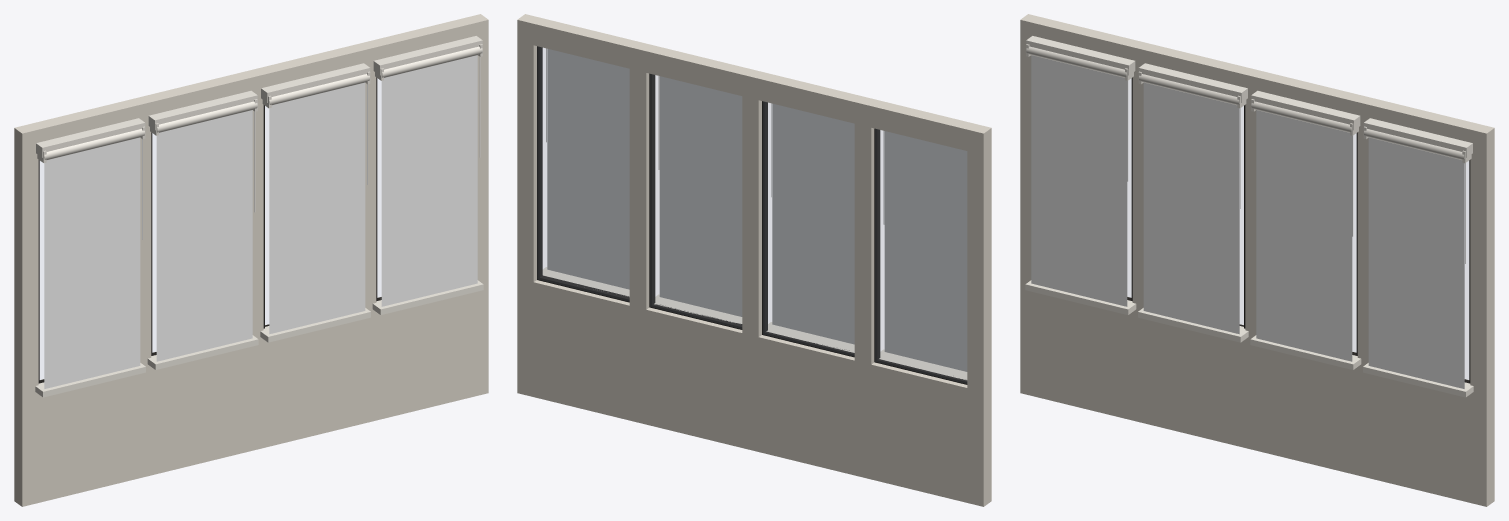
The model's file is curtain-roller-quad.glb.
3 views of the same model, side by side, from view 1: azimuth 30°, elevation 25°; view 2: azimuth 150°, elevation 25°; view 3: azimuth 330°, elevation 25° (orthographic).
Visible parts, largest first — view 1: QuadLowerWall, RollerFabric_P2, RollerFabric_P3, RollerFabric_P1, RollerFabric_P4, QuadHeaderWall, QuadLeftEdgeWall, QuadRightEdgeWall, QuadPillar2, QuadPillar1, QuadPillar3, CurtainRollerQuadBlind (+16 smaller); view 2: QuadLowerWall, WindowGlass_P1, WindowGlass_P3, WindowGlass_P2, WindowGlass_P4, RollerFabric_P1, RollerFabric_P3, RollerFabric_P2, RollerFabric_P4, QuadHeaderWall, CurtainRollerQuadBlind, QuadLeftEdgeWall (+8 smaller); view 3: QuadLowerWall, RollerFabric_P2, RollerFabric_P3, RollerFabric_P4, RollerFabric_P1, QuadHeaderWall, QuadRightEdgeWall, QuadLeftEdgeWall, QuadPillar2, QuadPillar3, QuadPillar1, CurtainRollerQuadBlind (+16 smaller).
Part boxes in pixels (box(x1,y1,x2,y2)): QuadLowerWall: box(14, 278, 488, 506); RollerFabric_P2: box(156, 110, 252, 361); RollerFabric_P3: box(269, 82, 365, 334); RollerFabric_P1: box(44, 137, 140, 388); RollerFabric_P4: box(381, 55, 477, 306); QuadHeaderWall: box(14, 14, 488, 154); QuadLeftEdgeWall: box(14, 149, 38, 391); QuadRightEdgeWall: box(477, 41, 488, 280); QuadPillar2: box(252, 97, 263, 335); QuadPillar1: box(140, 124, 151, 362); QuadPillar3: box(365, 69, 376, 307); CurtainRollerQuadBlind: box(37, 44, 482, 383); QuadLowerWall: box(517, 278, 991, 506); WindowGlass_P1: box(875, 129, 966, 383); WindowGlass_P3: box(650, 74, 741, 328); WindowGlass_P2: box(763, 102, 853, 355); WindowGlass_P4: box(538, 47, 628, 300); RollerFabric_P1: box(884, 131, 967, 371); RollerFabric_P3: box(659, 76, 742, 316); RollerFabric_P2: box(772, 103, 854, 344); RollerFabric_P4: box(547, 48, 629, 289); QuadHeaderWall: box(517, 14, 991, 154); CurtainRollerQuadBlind: box(537, 46, 967, 384); QuadLeftEdgeWall: box(967, 149, 991, 391); QuadLowerWall: box(1020, 278, 1494, 506); RollerFabric_P2: box(1143, 82, 1239, 334); RollerFabric_P3: box(1256, 110, 1352, 361); RollerFabric_P4: box(1368, 137, 1464, 388); RollerFabric_P1: box(1031, 55, 1127, 306); QuadHeaderWall: box(1020, 14, 1494, 154); QuadRightEdgeWall: box(1470, 149, 1494, 391); QuadLeftEdgeWall: box(1020, 41, 1031, 280); QuadPillar2: box(1245, 97, 1256, 335); QuadPillar3: box(1357, 124, 1368, 362); QuadPillar1: box(1132, 69, 1143, 307); CurtainRollerQuadBlind: box(1026, 44, 1471, 383).
Size of the model in its own units: 3.4 by 2.6 by 0.205.
